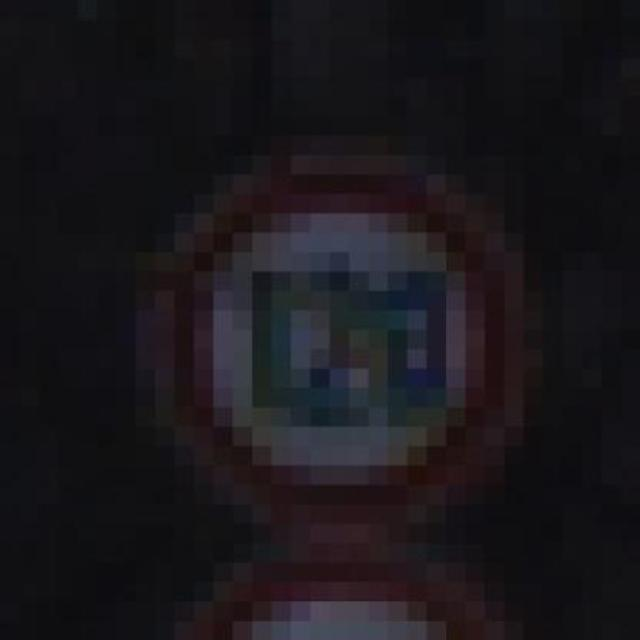forb_speed_over_120: (175, 161, 504, 513)
